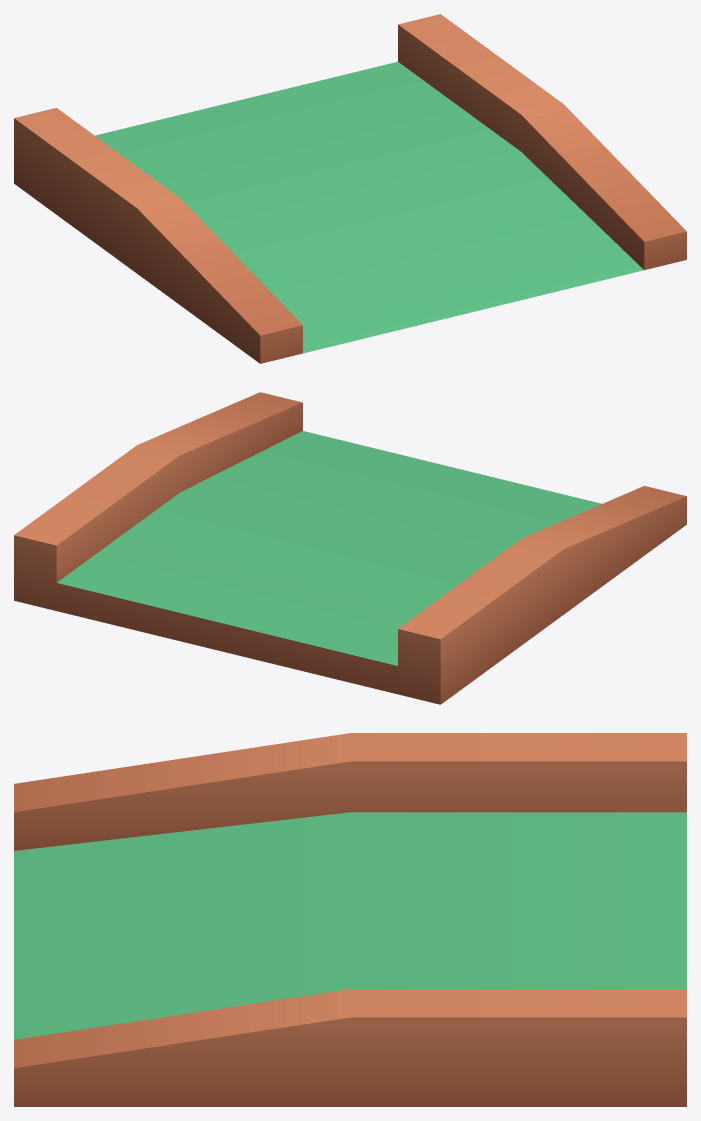
Rendered from start.glb.
3 views of the same model, one above another, from view 1: azimuth 30°, elevation 25°; view 2: azimuth 150°, elevation 25°; view 3: azimuth 270°, elevation 25° (orthographic). The views are drawn at different scales.
Visible parts, largest first — view 1: start; view 2: start; view 3: start.
Boxes of the visible parts, x1,y1,x2,y2 form: start: (14, 14, 686, 363); start: (14, 392, 686, 704); start: (14, 733, 686, 1106).
Bounding box in the file's own units: 0.9999 × 0.1467 × 0.9999.
1 material, 1 textured.
